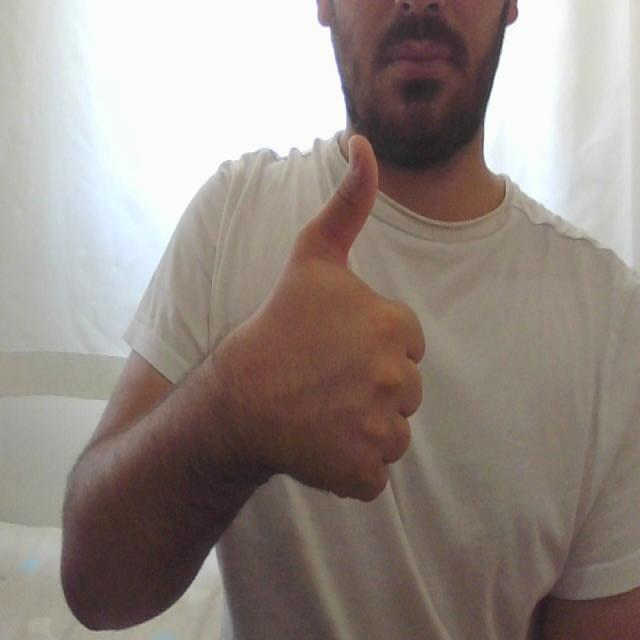Tamam: (234, 134, 426, 506)
